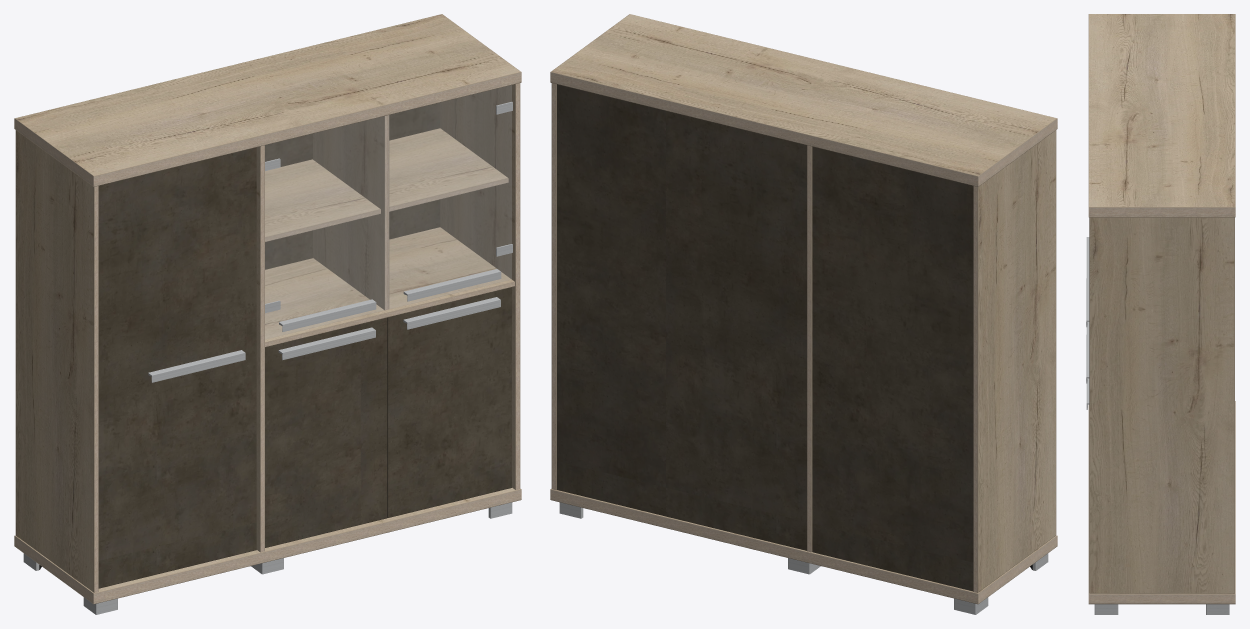
The picture shows the model from 3 angles, left to right: view 1: azimuth 30°, elevation 25°; view 2: azimuth 150°, elevation 25°; view 3: azimuth 270°, elevation 25°; orthographic projection. The views are drawn at different scales.
Parts seen in each view (by area): view 1: Line1789532158, Line1789532140, Line1789532142, Line1789532160, Line1789532159, Box1578995142, Box1578995145, Line1789532144, Line1789532164, Line1789532163, Line1789532141, Line1789532155 (+8 smaller); view 2: Line1789532162, Line1789532143, Line1789532140, Line1789532142, Line1789532141, Line1789532144, Line1789532145; view 3: Line1789532144, Line1789532140, Line1789532141, Object5792, Object5793.
Boxes of the visible parts, left/top/right/bottom form: Line1789532158: left=98, top=147, right=256, bottom=588; Line1789532140: left=14, top=14, right=521, bottom=186; Line1789532142: left=15, top=130, right=98, bottom=592; Line1789532160: left=387, top=287, right=511, bottom=517; Line1789532159: left=265, top=317, right=387, bottom=547; Box1578995142: left=388, top=85, right=511, bottom=309; Box1578995145: left=265, top=116, right=386, bottom=338; Line1789532144: left=440, top=83, right=520, bottom=489; Line1789532164: left=265, top=227, right=514, bottom=347; Line1789532163: left=313, top=115, right=389, bottom=310; Line1789532141: left=14, top=488, right=521, bottom=604; Line1789532155: left=389, top=128, right=508, bottom=211; Line1789532162: left=557, top=84, right=806, bottom=550; Line1789532143: left=812, top=146, right=973, bottom=591; Line1789532140: left=550, top=14, right=1057, bottom=186; Line1789532142: left=973, top=130, right=1056, bottom=592; Line1789532141: left=550, top=489, right=1057, bottom=604; Line1789532144: left=551, top=83, right=556, bottom=489; Line1789532145: left=807, top=145, right=812, bottom=552; Line1789532144: left=1089, top=217, right=1234, bottom=593; Line1789532140: left=1088, top=14, right=1235, bottom=217; Line1789532141: left=1088, top=401, right=1235, bottom=604; Object5792: left=1094, top=604, right=1118, bottom=614; Object5793: left=1206, top=604, right=1229, bottom=614.
Bounding box in the file's own units: 1.56 × 1.54 × 0.5078.
Materials: 7 (5 with a texture image).
